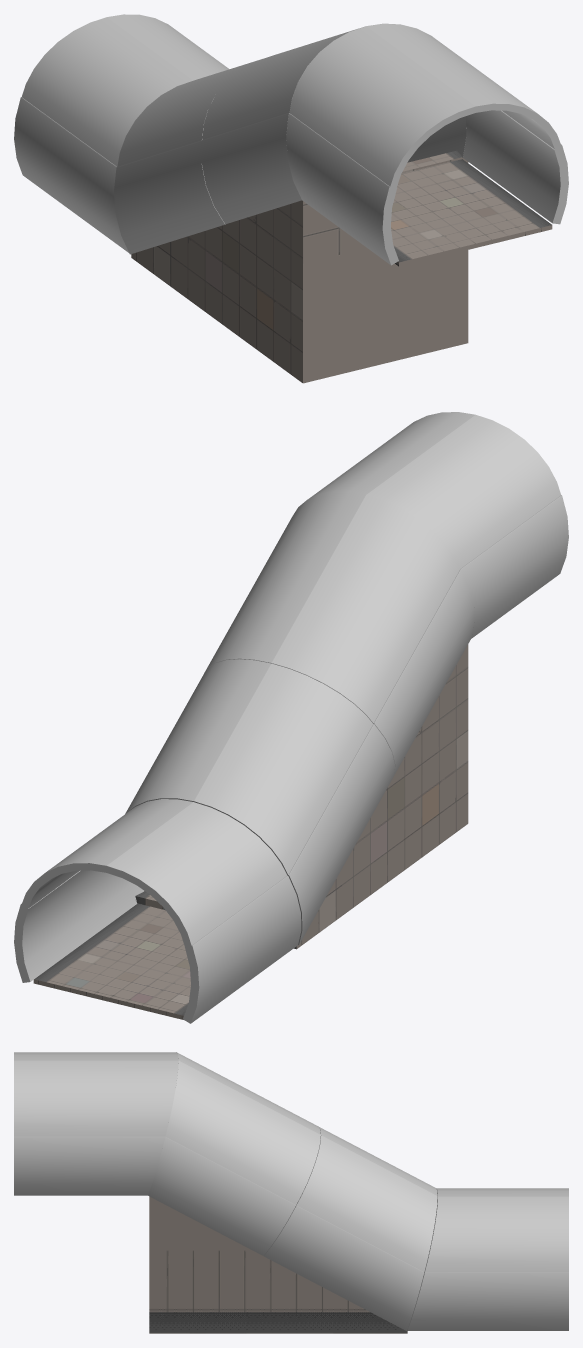
The model's file is road_4.fbx.
3 renders of one model, top to bottom at view 1: azimuth 30°, elevation 25°; view 2: azimuth 150°, elevation 25°; view 3: azimuth 270°, elevation 25°, orthographic. The views are drawn at different scales.
Visible parts, largest first — view 1: Grid.042, Cylinder.038, Cylinder.036, Cylinder.037, Grid.049, Cylinder.028, Cylinder.031, Cylinder.035, Cylinder.029, Cylinder.032; view 2: Cylinder.029, Cylinder.032, Cylinder.038, Cylinder.036, Cylinder.035, Grid.042, Grid.034, Cylinder.031, Cylinder.028, Cylinder.037; view 3: Grid.042, Cylinder.038, Cylinder.029, Cylinder.036, Cylinder.032, Cylinder.031, Cylinder.035, Cylinder.037, Cylinder.028.
Part boxes in pixels (x1,y1,x2,y2): Grid.042: [131, 150, 468, 383]; Cylinder.038: [289, 23, 560, 188]; Cylinder.036: [22, 14, 229, 166]; Cylinder.037: [286, 110, 568, 265]; Grid.049: [391, 159, 552, 266]; Cylinder.028: [201, 113, 466, 224]; Cylinder.031: [114, 140, 225, 254]; Cylinder.035: [14, 97, 129, 253]; Cylinder.029: [202, 23, 430, 139]; Cylinder.032: [117, 59, 261, 166]; Cylinder.029: [204, 491, 460, 723]; Cylinder.032: [125, 659, 372, 875]; Cylinder.038: [309, 412, 560, 568]; Cylinder.036: [21, 799, 287, 947]; Cylinder.035: [14, 870, 301, 1023]; Grid.042: [135, 644, 468, 949]; Grid.034: [33, 903, 190, 1019]; Cylinder.031: [127, 724, 394, 944]; Cylinder.028: [373, 569, 474, 774]; Cylinder.037: [461, 495, 568, 638]; Grid.042: [149, 1196, 407, 1333]; Cylinder.038: [14, 1052, 178, 1136]; Cylinder.029: [165, 1052, 320, 1204]; Cylinder.036: [424, 1188, 568, 1272]; Cylinder.032: [296, 1127, 437, 1271]; Cylinder.031: [264, 1205, 424, 1330]; Cylinder.035: [407, 1272, 568, 1330]; Cylinder.037: [14, 1136, 165, 1195]; Cylinder.028: [148, 1137, 296, 1255].
Bounding box in the file's own units: 451 × 747 × 1548.
